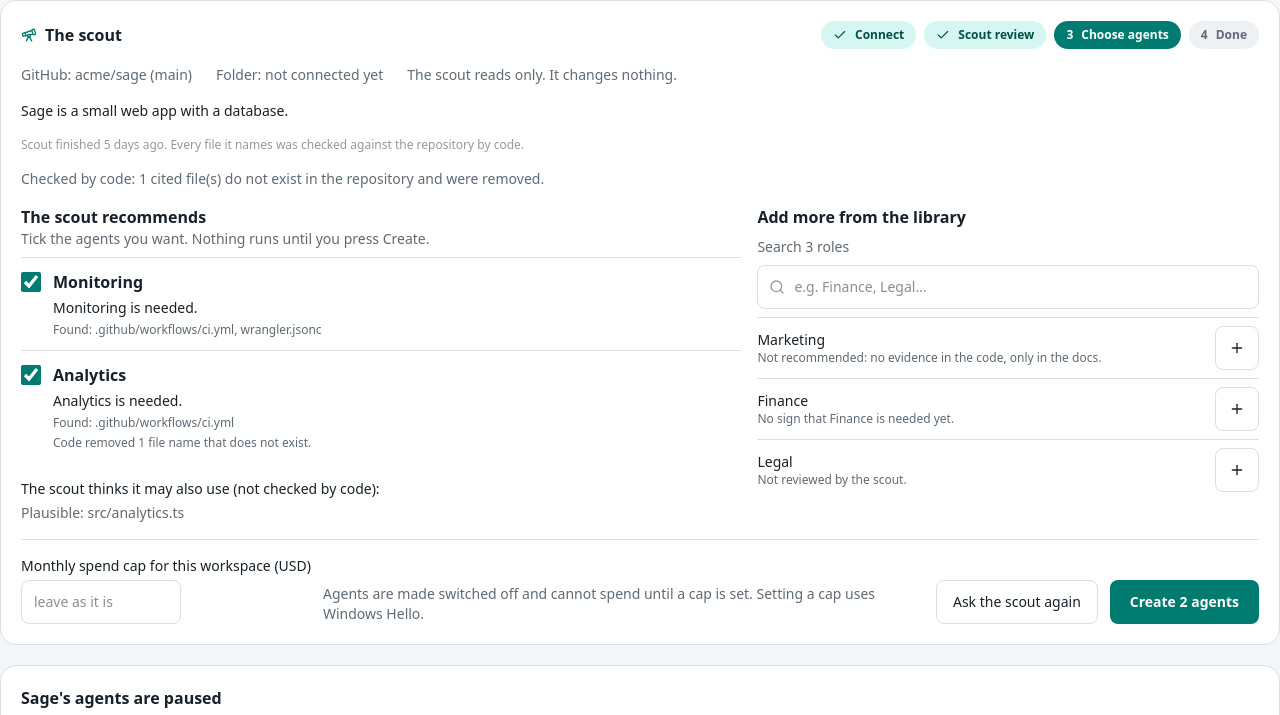
Test: the scout on the Agents tab › + adds a role the scout did not recommend, and the count follows
Click the button named "Add Finance".
click(1237, 409)  # box [1215,387,1259,431]
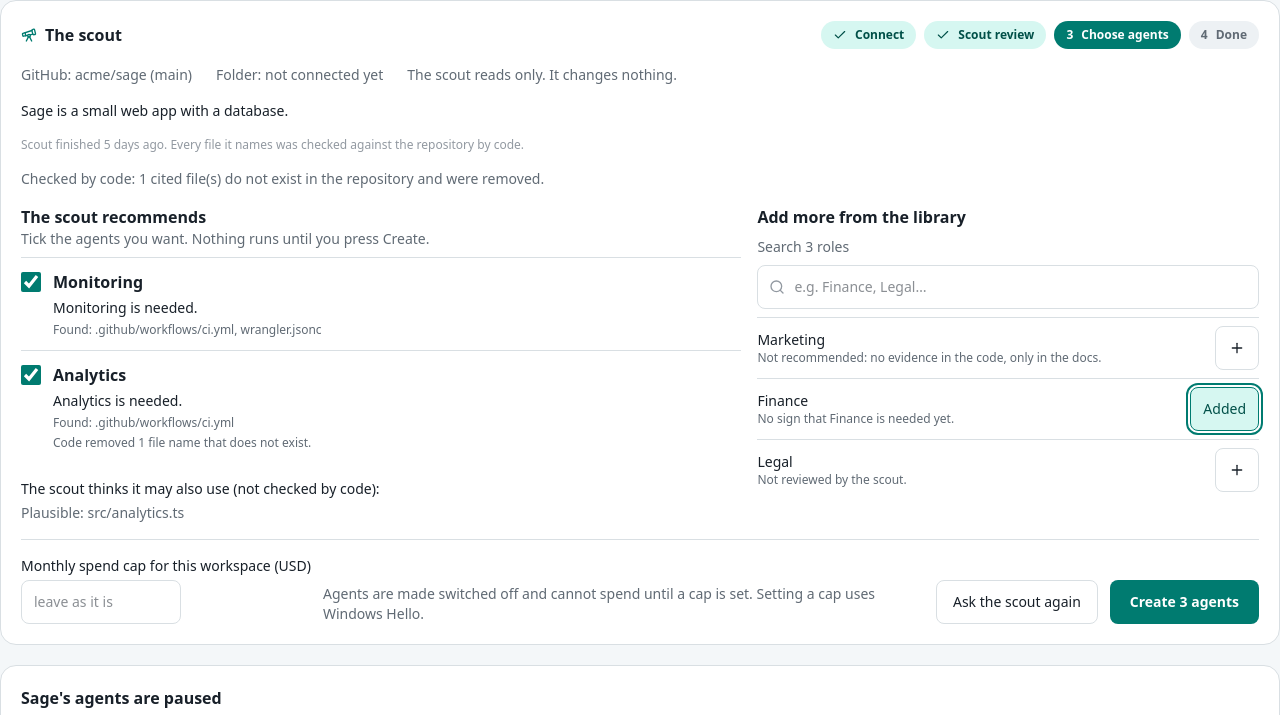
Expected: the button with aria-label "Remove Finance" is pressed, [1190,387,1259,431]
Click the checkbox labelled "Analytics".
click(31, 375)  # box [21,365,41,385]
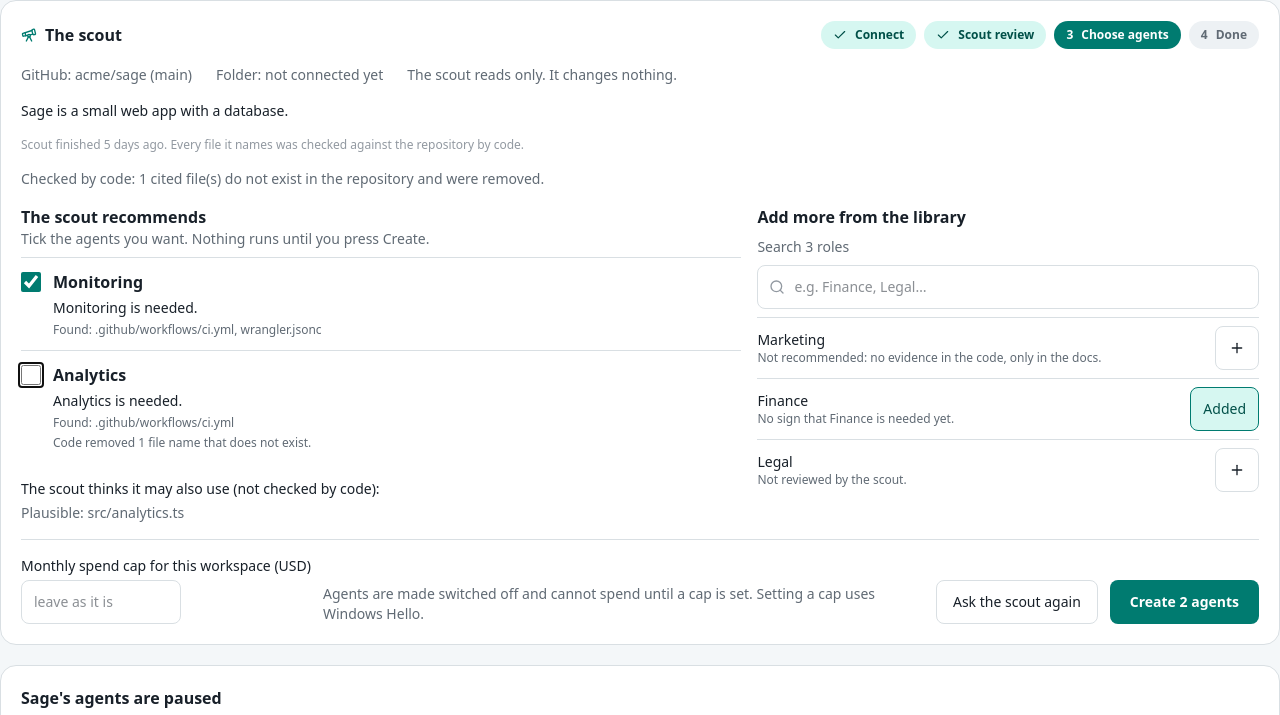
Expected: the button "Create 2 agents" is shown, [1110,580,1259,624]
